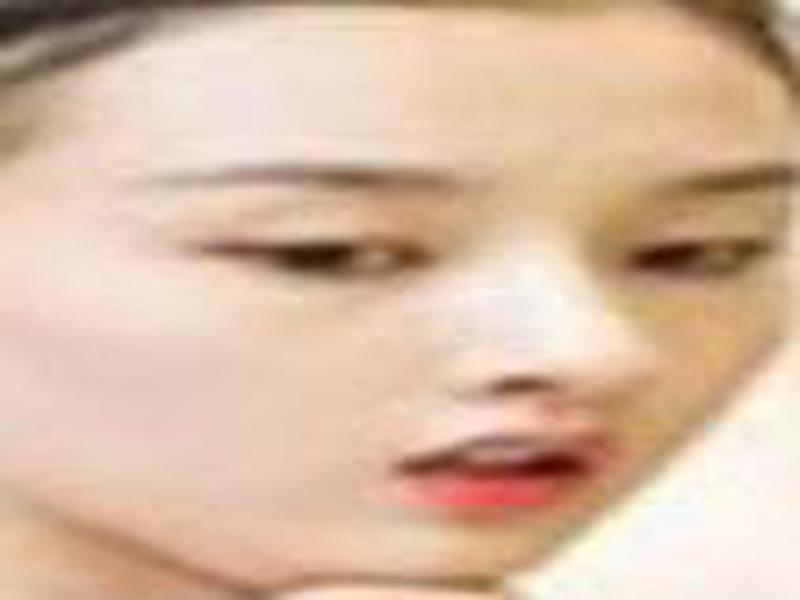without_mask: (6, 12, 791, 589)
